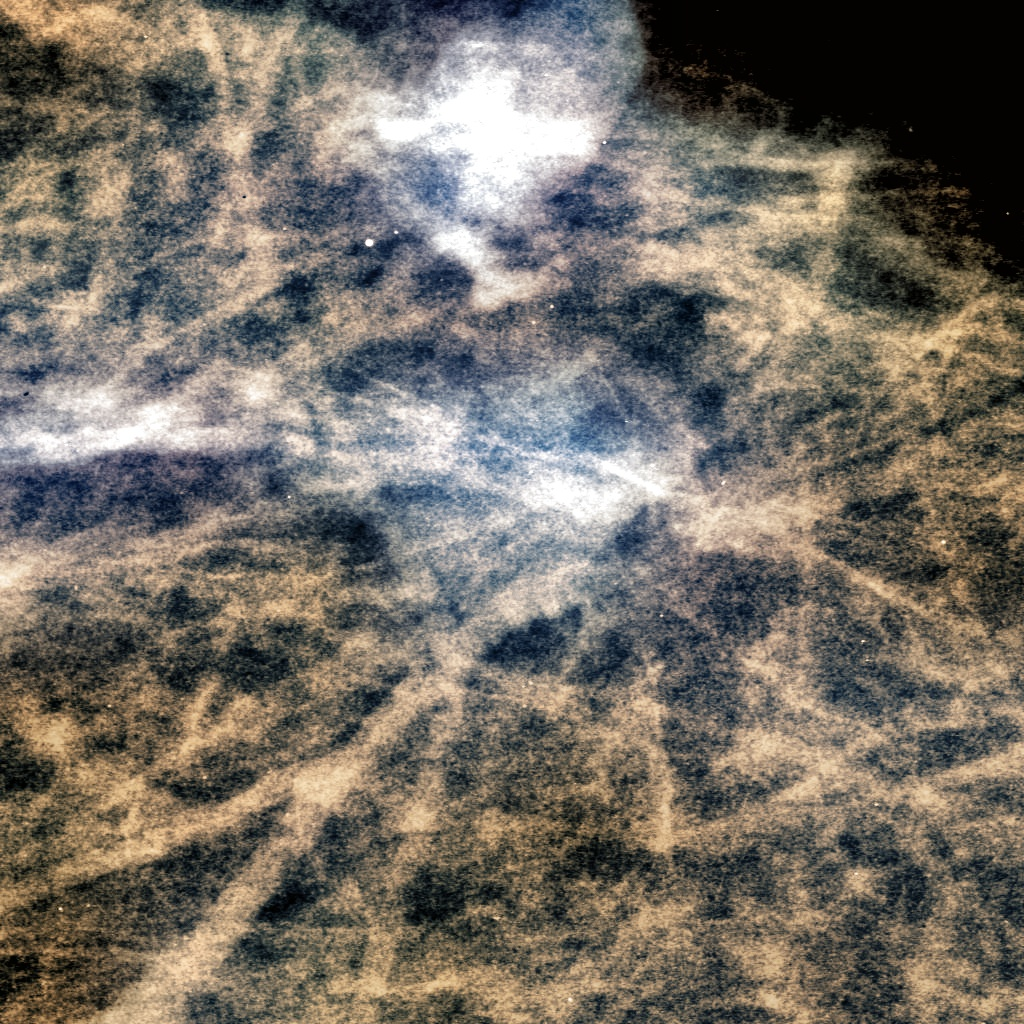tumor: (330, 352, 694, 672)
